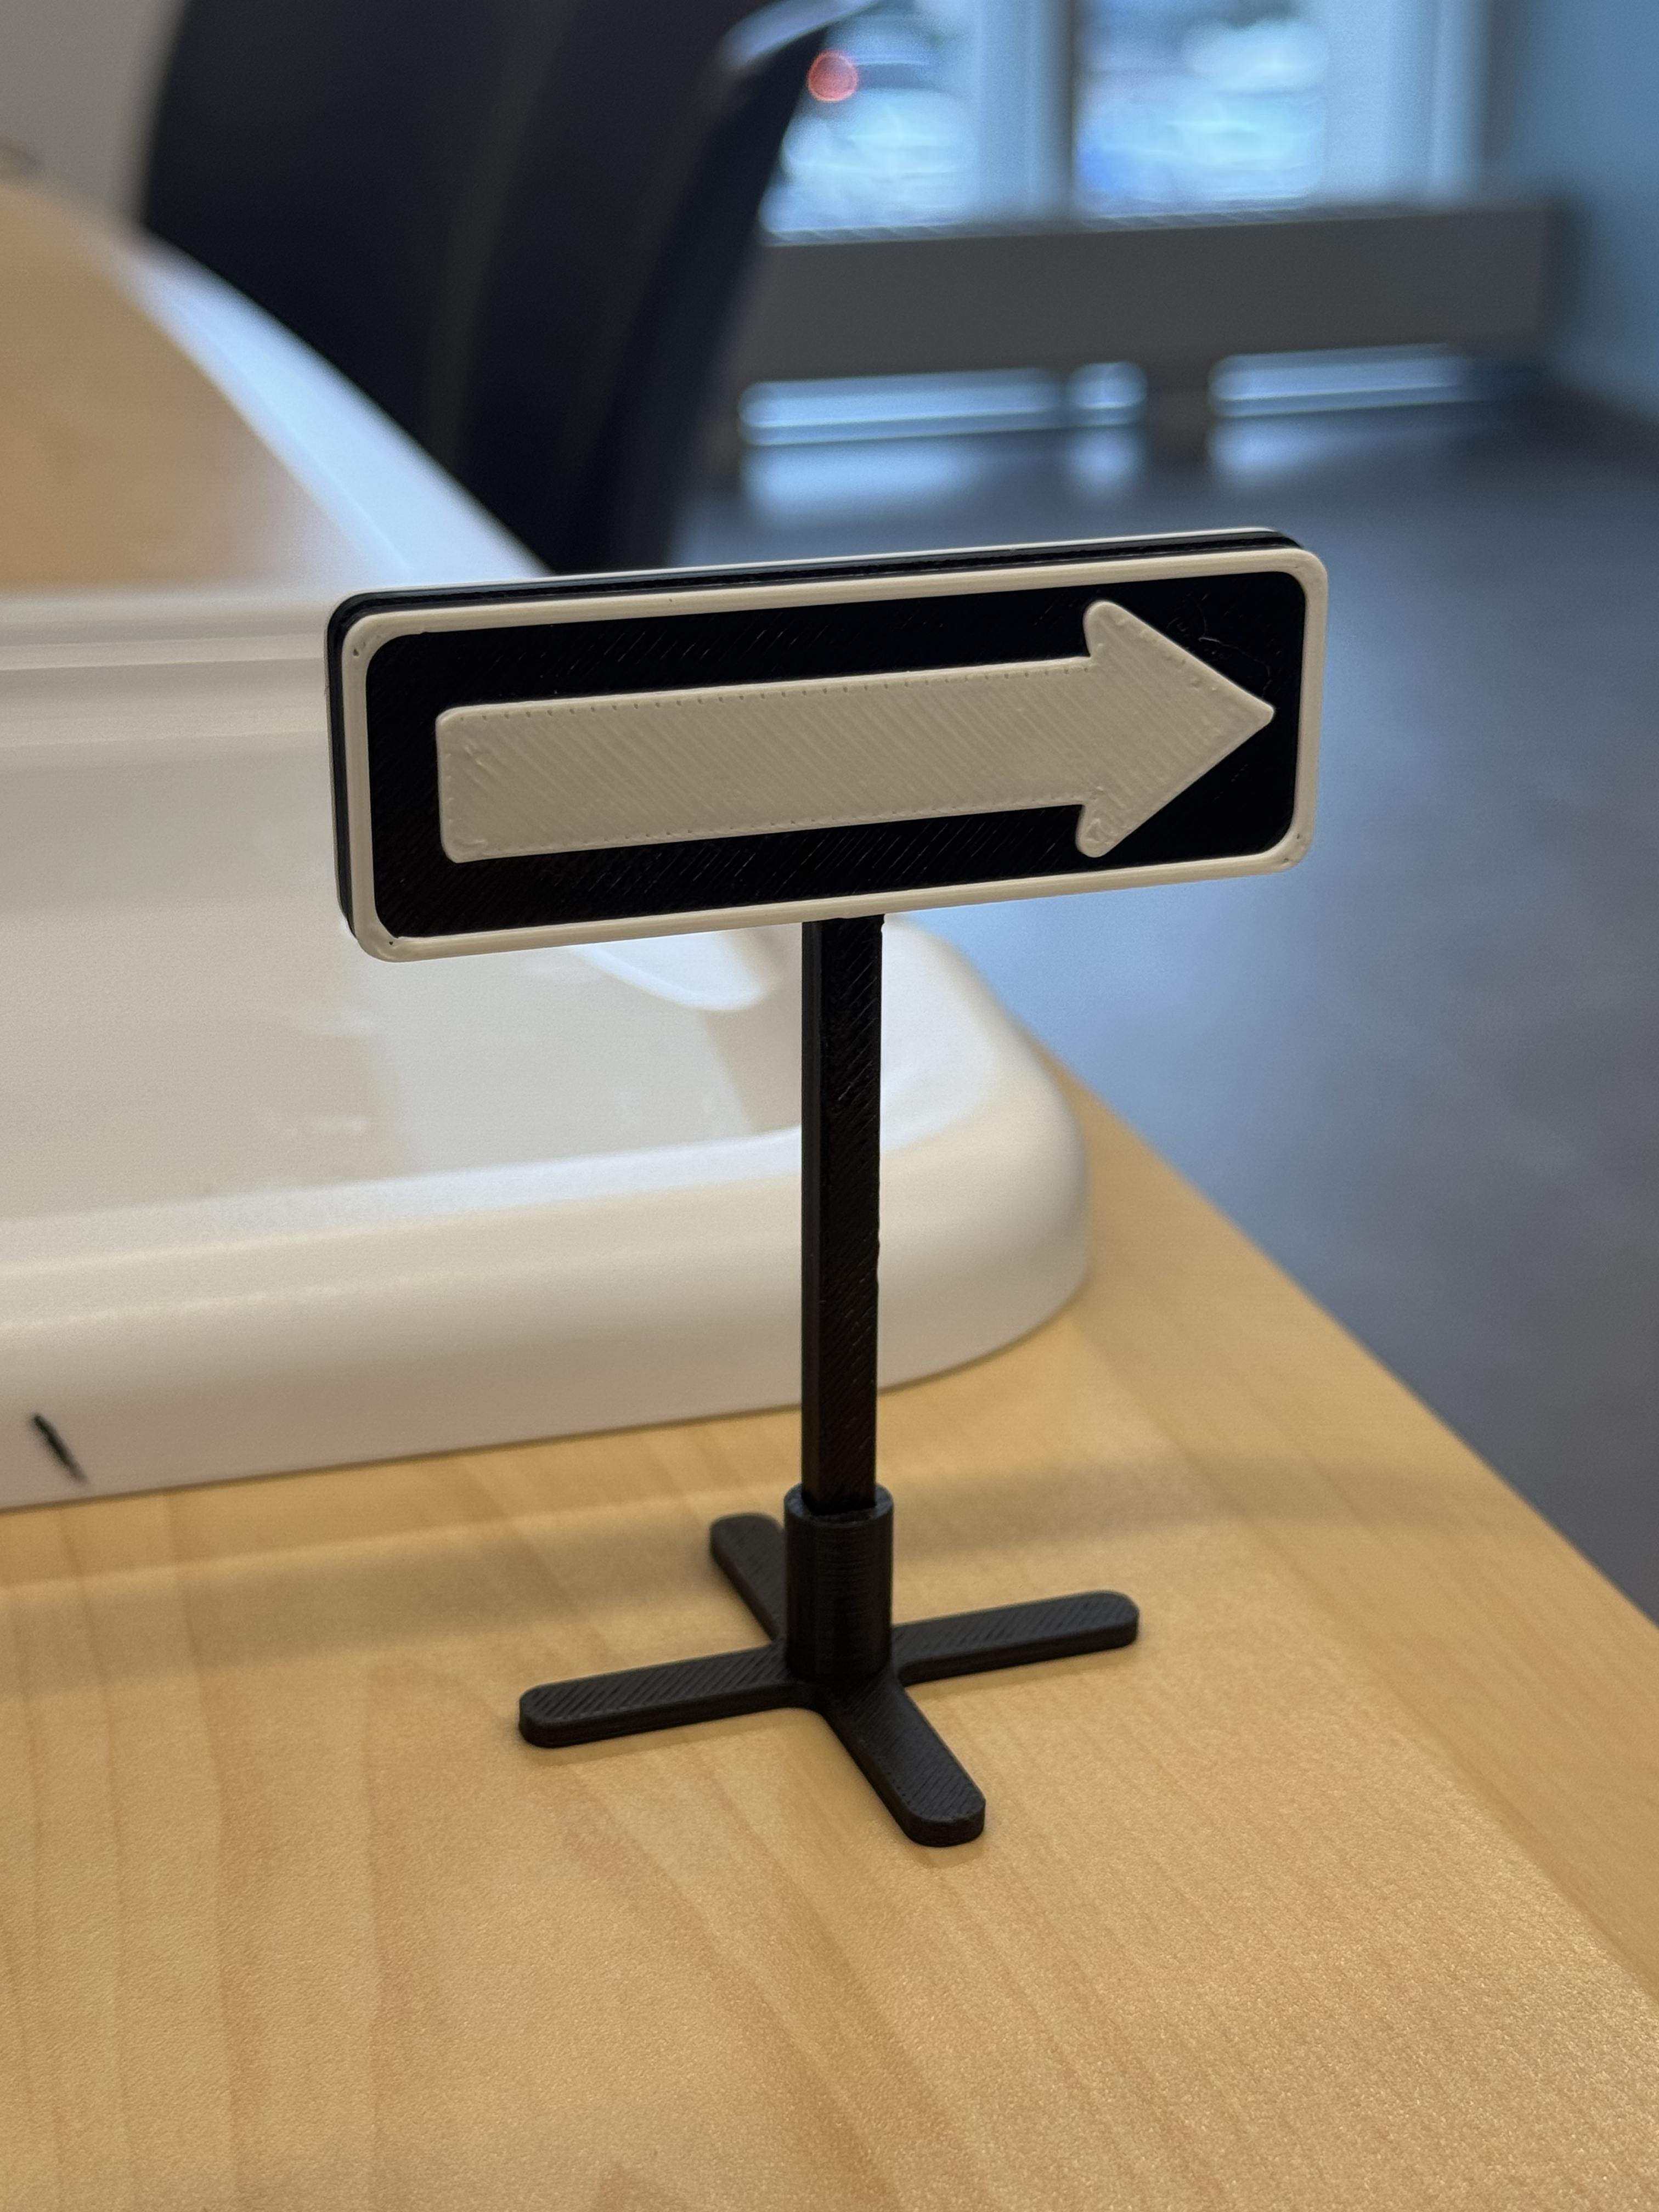sign_oneway_right: (310, 521, 1335, 1860)
